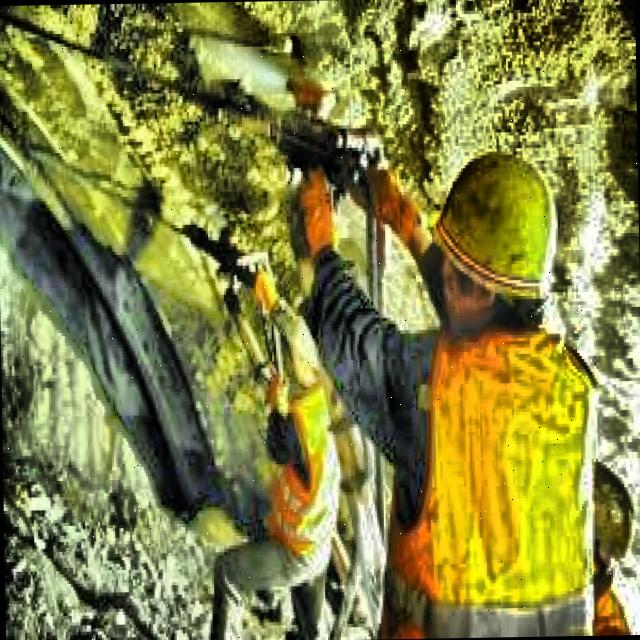helmet: (421, 131, 566, 342)
